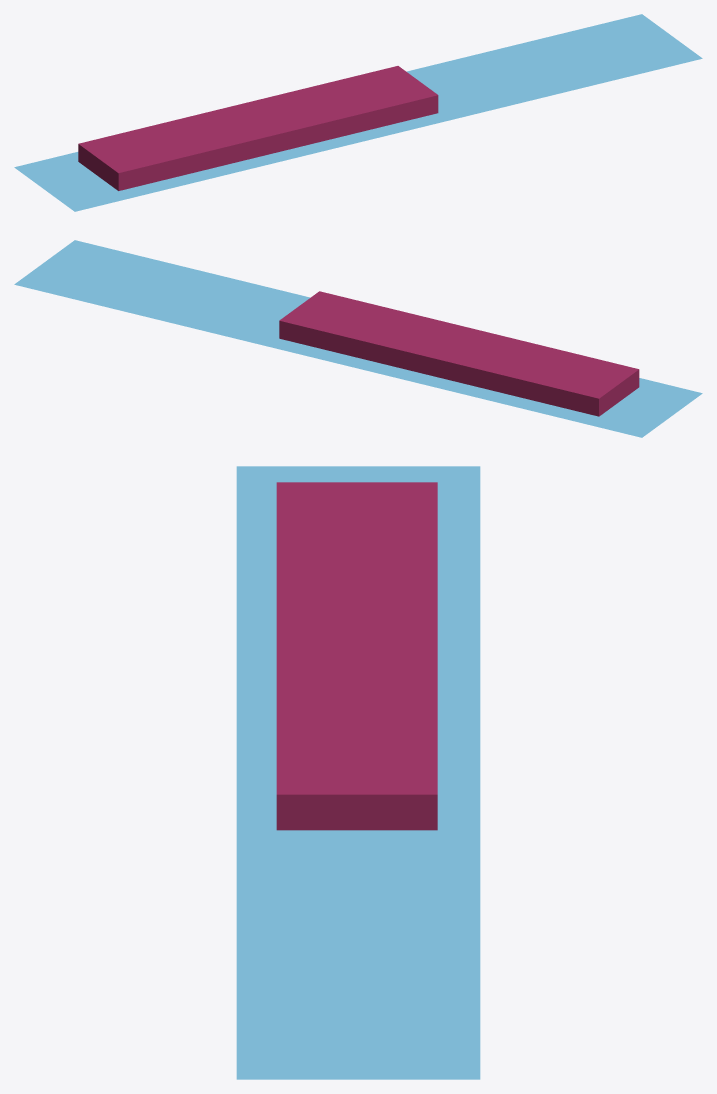
File: bar3.gltf
3 views of the same model, one above another, from view 1: azimuth 30°, elevation 25°; view 2: azimuth 150°, elevation 25°; view 3: azimuth 270°, elevation 25° (orthographic). The views are drawn at different scales.
Visible parts, largest first — view 1: Plane, Cube; view 2: Plane, Cube; view 3: Plane, Cube.
Boxes of the visible parts, left/top/right/bottom form: Plane: left=14, top=14, right=702, bottom=211; Cube: left=78, top=66, right=438, bottom=190; Plane: left=14, top=240, right=702, bottom=437; Cube: left=279, top=291, right=639, bottom=416; Plane: left=236, top=466, right=480, bottom=1079; Cube: left=276, top=482, right=437, bottom=830.
Size of the model in its own units: 11.91 by 0.3312 by 2.
Materials: 2 (2 with a texture image).
